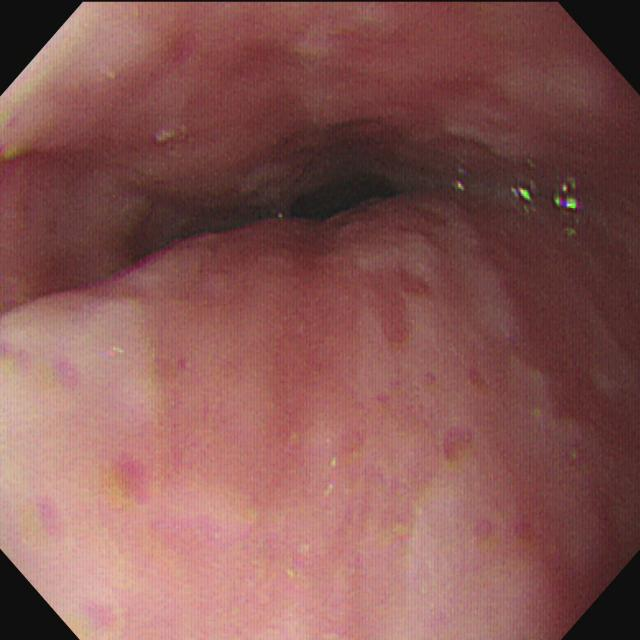E: (117, 101, 503, 273)
J: (321, 233, 582, 623), (2, 280, 217, 630)
T: (511, 170, 584, 214)
